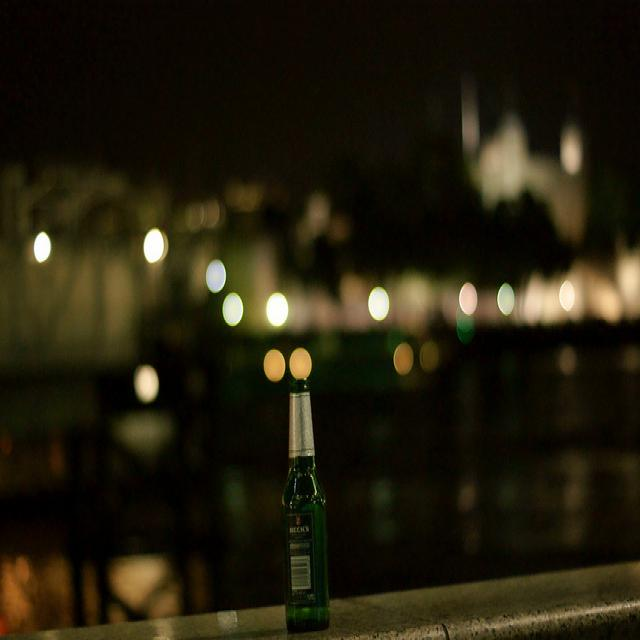Bottle: (279, 373, 335, 634)
